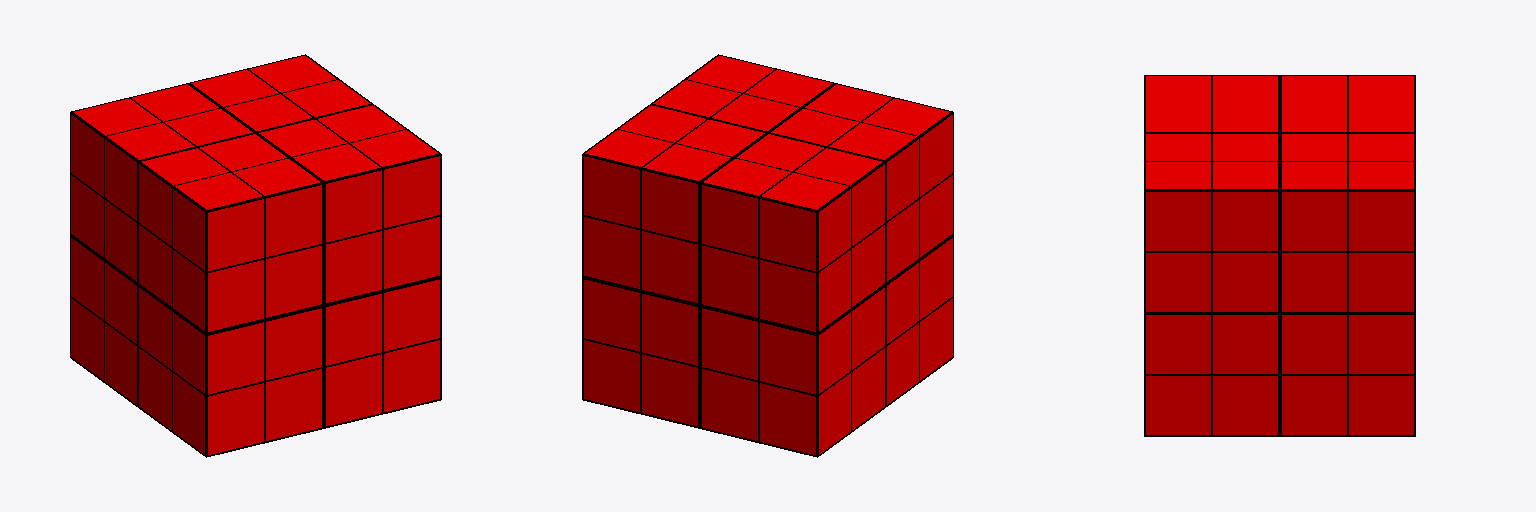
The picture shows the model from 3 angles: view 1: azimuth 30°, elevation 25°; view 2: azimuth 150°, elevation 25°; view 3: azimuth 270°, elevation 25°; orthographic projection.
Visible parts, largest first — view 1: obj1; view 2: obj1; view 3: obj1.
Boxes of the visible parts, x1=… form: obj1: x1=70, y1=54, x2=441, y2=457; obj1: x1=582, y1=54, x2=953, y2=457; obj1: x1=1144, y1=75, x2=1415, y2=436.
Bounding box in the file's own units: 2 × 2 × 2.
Materials: 1 (1 with a texture image).